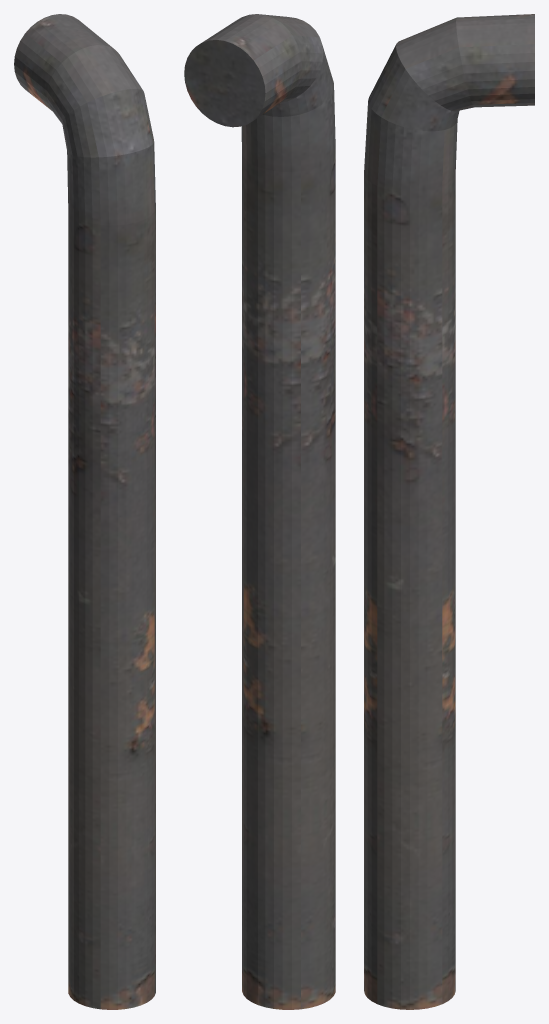
File: pipe.fbx
3 renders of one model, left to right at view 1: azimuth 30°, elevation 25°; view 2: azimuth 150°, elevation 25°; view 3: azimuth 270°, elevation 25°, orthographic. The views are drawn at different scales.
Visible parts, largest first — view 1: Pipe; view 2: Pipe; view 3: Pipe.
Boxes of the visible parts, <box> form: Pipe: <box>14,14,155,1009</box>; Pipe: <box>184,14,335,1009</box>; Pipe: <box>364,14,534,1009</box>.
Size of the model in its own units: 10.36 by 121 by 19.31.
